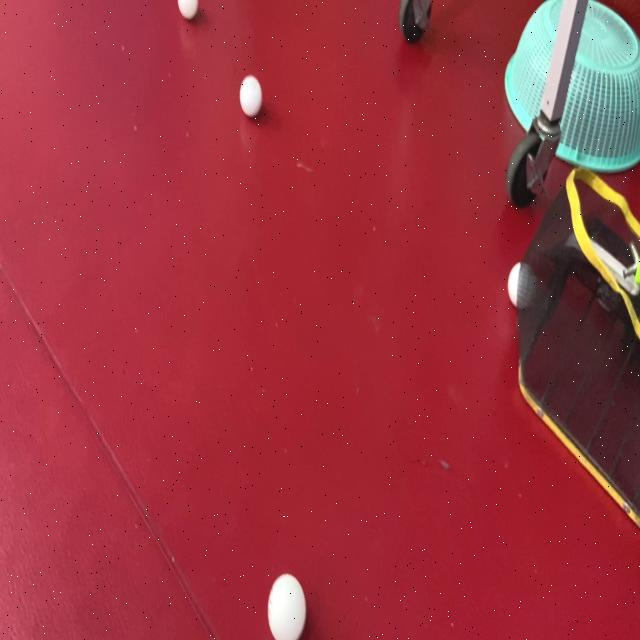ping-pong-ball: (265, 572, 310, 640), (238, 72, 264, 126)
